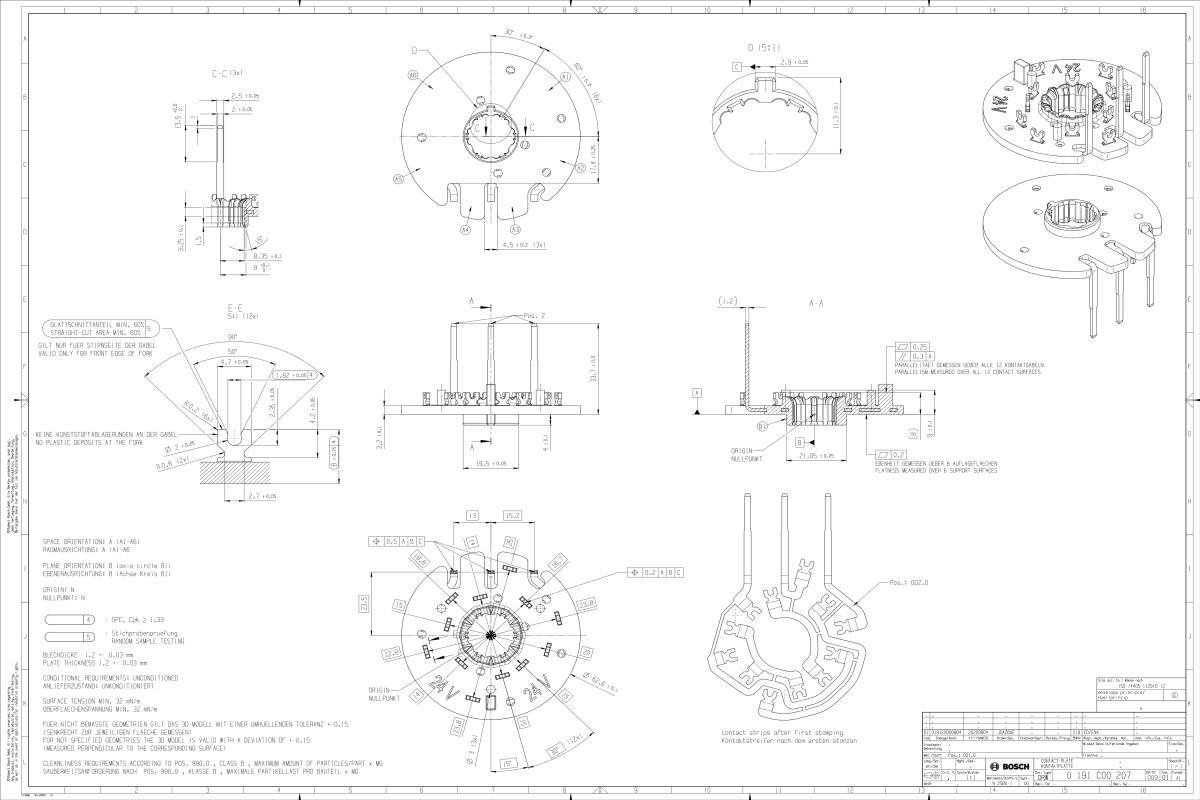falcon_r1: (306, 503, 708, 780), (676, 481, 1009, 769), (665, 278, 1068, 493), (938, 35, 1180, 352), (32, 298, 360, 526), (365, 23, 632, 273), (364, 283, 632, 495), (652, 24, 888, 198), (130, 59, 294, 292)
